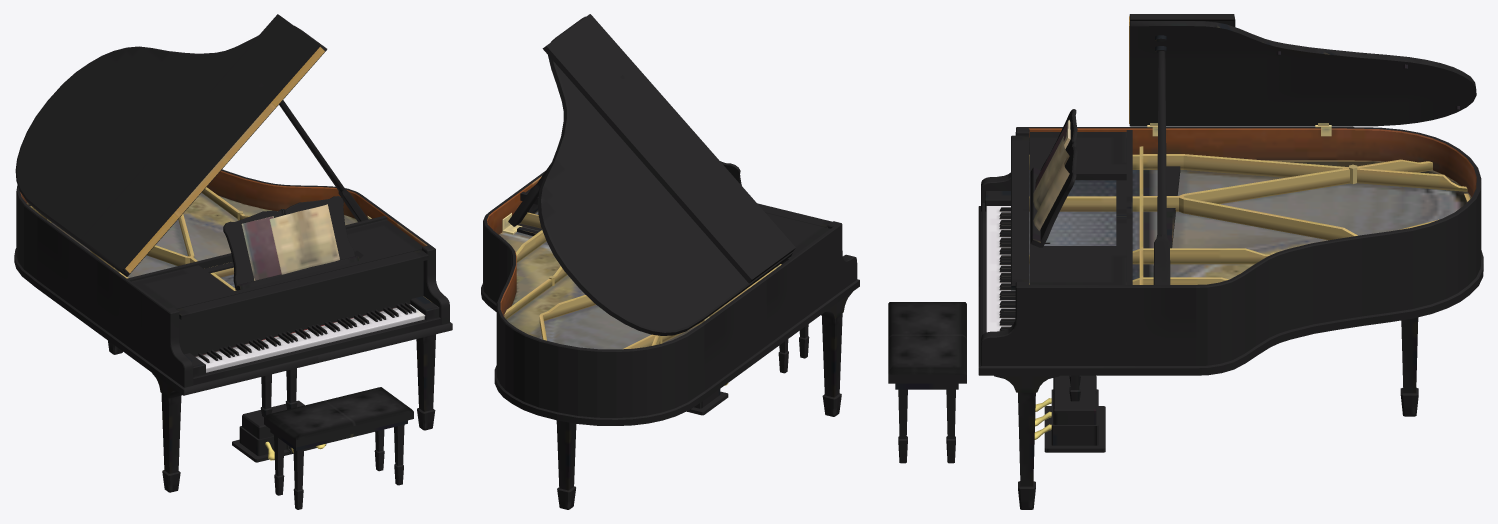
Rendered from Piano.obj.
The picture shows the model from 3 angles, left to right: view 1: azimuth 30°, elevation 25°; view 2: azimuth 150°, elevation 25°; view 3: azimuth 270°, elevation 25°; orthographic projection. The views are drawn at different scales.
Parts seen in each view (by area): view 1: surface, matte; view 2: surface, matte; view 3: surface, matte.
Part boxes in pixels (x1,y1,x2,y2): surface: [14, 14, 452, 509]; matte: [21, 46, 425, 460]; surface: [481, 14, 859, 509]; matte: [487, 161, 781, 385]; surface: [888, 14, 1483, 509]; matte: [888, 16, 1475, 439].
Size of the model in its own units: 43.04 by 56.3 by 66.76.
Materials: 1 (1 with a texture image).
